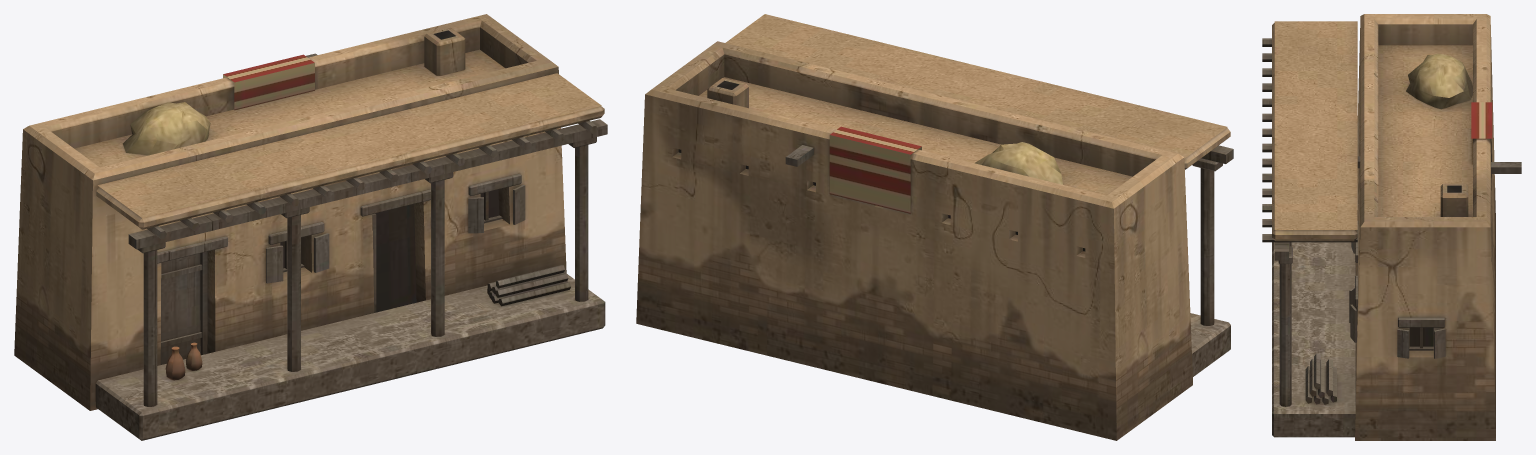
3 views of the same model, side by side, from view 1: azimuth 30°, elevation 25°; view 2: azimuth 150°, elevation 25°; view 3: azimuth 270°, elevation 25° (orthographic). The views are drawn at different scales.
Visible parts, largest first — view 1: vh_h50e; view 2: vh_h50e; view 3: vh_h50e.
Boxes of the visible parts, <box> form: vh_h50e: <box>14,14,607,440</box>; vh_h50e: <box>636,14,1233,440</box>; vh_h50e: <box>1262,14,1521,440</box>.
Bounding box in the file's own units: 8.51 × 4.05 × 4.26.
1 material, 1 textured.
